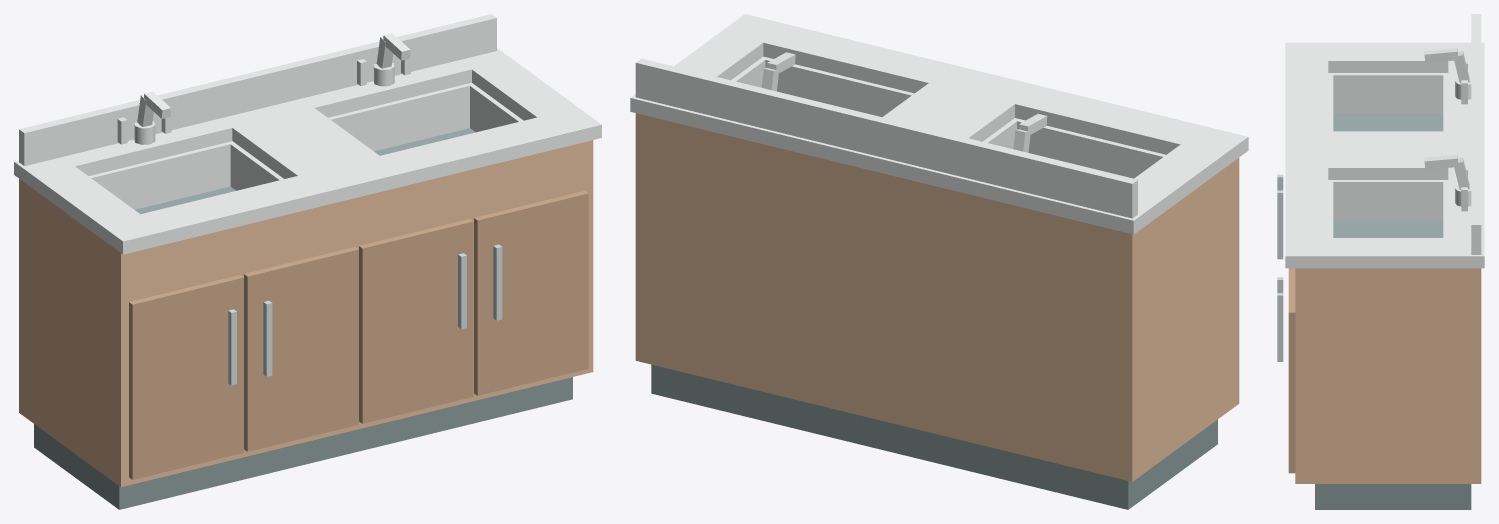
Rendered from vanityDouble.glb.
3 renders of one model, left to right at view 1: azimuth 30°, elevation 25°; view 2: azimuth 150°, elevation 25°; view 3: azimuth 270°, elevation 25°, orthographic. The views are drawn at different scales.
Parts seen in each view (by area): view 1: vanityDouble; view 2: vanityDouble; view 3: vanityDouble.
Boxes of the visible parts, bbox=[...] form: vanityDouble: bbox=[14, 14, 601, 509]; vanityDouble: bbox=[630, 14, 1248, 509]; vanityDouble: bbox=[1277, 14, 1484, 509].
Bounding box in the file's own units: 0.76 × 0.507 × 0.312.
